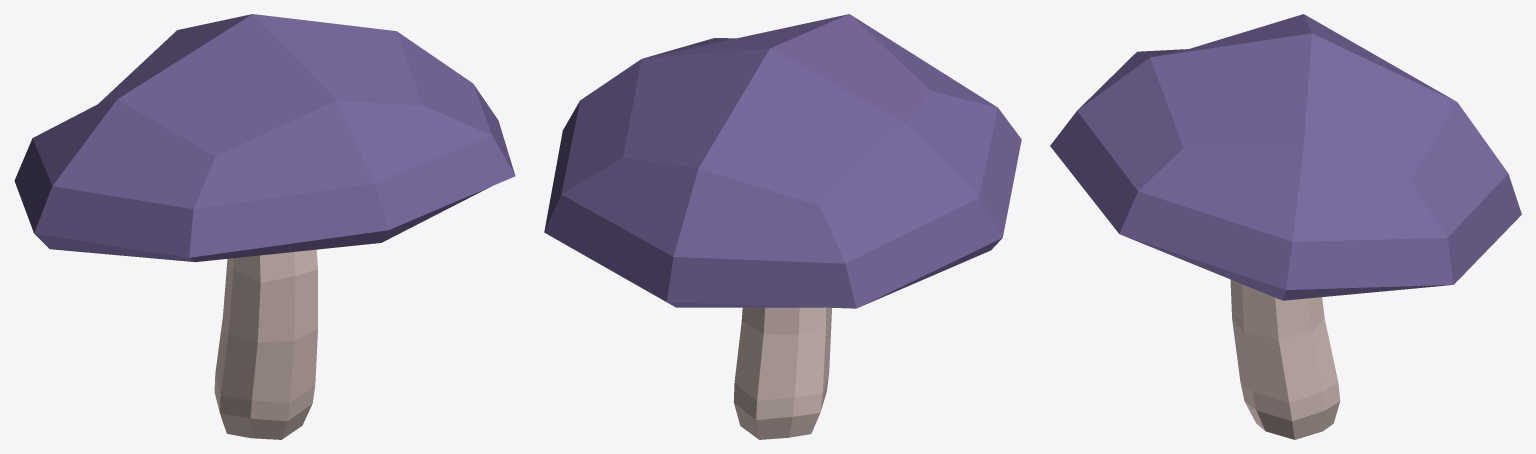
File: MUSH_UMBRELLA_PURP.fbx
3 views of the same model, side by side, from view 1: azimuth 30°, elevation 25°; view 2: azimuth 150°, elevation 25°; view 3: azimuth 270°, elevation 25° (orthographic). The views are drawn at different scales.
Parts seen in each view (by area): view 1: pCube17, pCube18; view 2: pCube17, pCube18; view 3: pCube17, pCube18.
Part boxes in pixels (<box>): pCube17: <box>14,14,515,262</box>; pCube18: <box>214,249,317,439</box>; pCube17: <box>544,14,1021,308</box>; pCube18: <box>733,307,831,439</box>; pCube17: <box>1050,14,1521,300</box>; pCube18: <box>1230,280,1340,439</box>.
Bounding box in the file's own units: 17.11 × 14.49 × 15.62.
